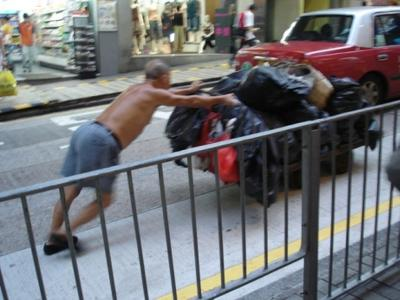person: (40, 60, 239, 259)
